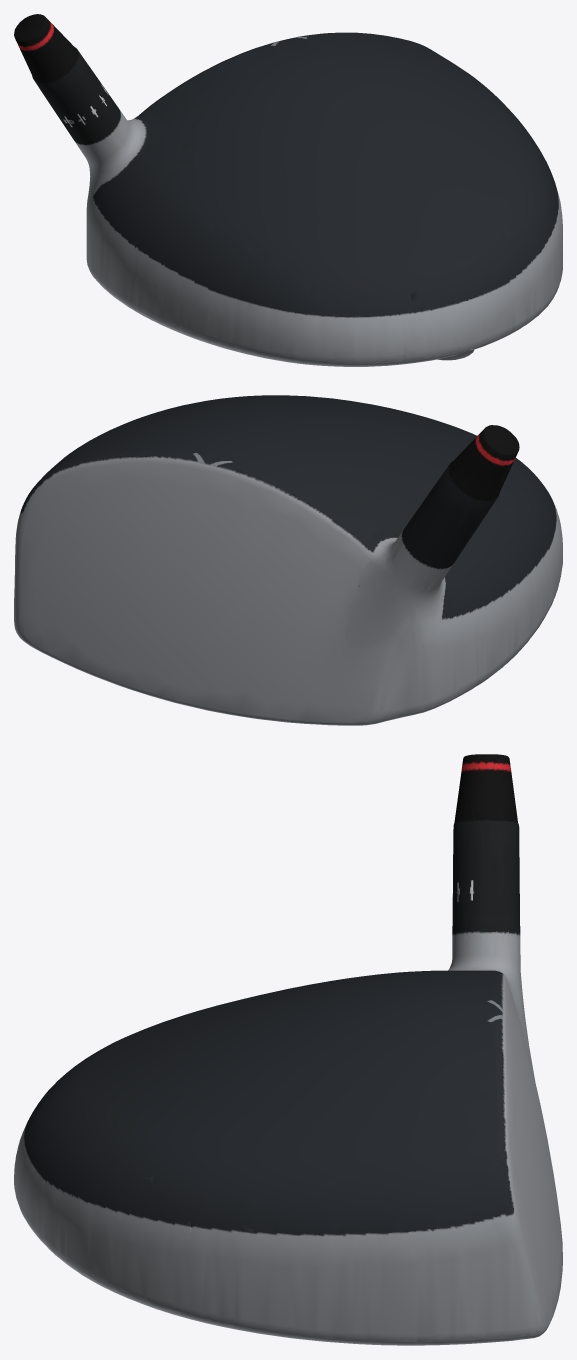
3 views of the same model, one above another, from view 1: azimuth 30°, elevation 25°; view 2: azimuth 150°, elevation 25°; view 3: azimuth 270°, elevation 25° (orthographic). The views are drawn at different scales.
Parts seen in each view (by area): view 1: head; view 2: head; view 3: head.
Part boxes in pixels (x1,y1,x2,y2): head: [14, 14, 562, 366]; head: [14, 395, 562, 725]; head: [14, 754, 562, 1345].
Size of the model in its own units: 0.1369 by 0.0835 by 0.1153.
Materials: 1 (1 with a texture image).
